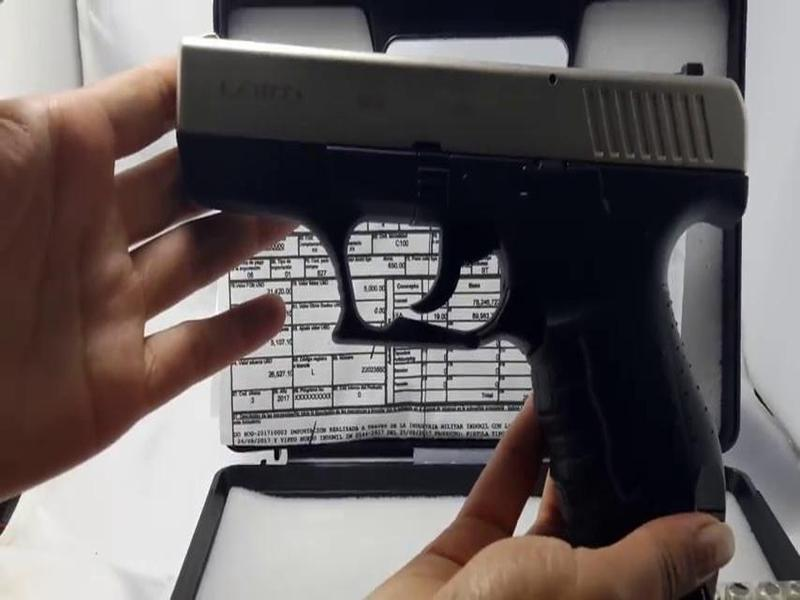Pistola: (152, 12, 742, 536)
